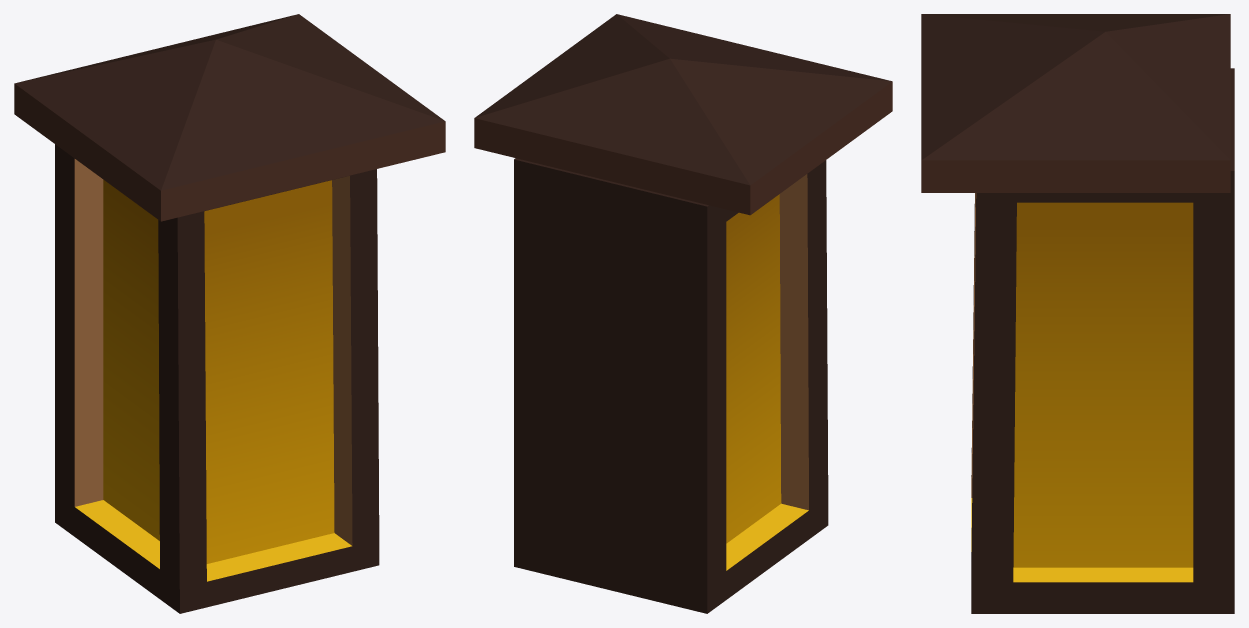
Rendered from Outdoor Box Lamp.glb.
The picture shows the model from 3 angles, left to right: view 1: azimuth 30°, elevation 25°; view 2: azimuth 150°, elevation 25°; view 3: azimuth 270°, elevation 25°; orthographic projection. The views are drawn at different scales.
Visible parts, largest first — view 1: Outdoor Box Lamp; view 2: Outdoor Box Lamp; view 3: Outdoor Box Lamp.
Part boxes in pixels (left/top/right/bottom): Outdoor Box Lamp: left=14, top=14, right=445, bottom=613; Outdoor Box Lamp: left=474, top=14, right=892, bottom=613; Outdoor Box Lamp: left=921, top=14, right=1234, bottom=613.
Size of the model in its own units: 0.5649 by 0.9548 by 0.5105.
Materials: 1 (1 with a texture image).
